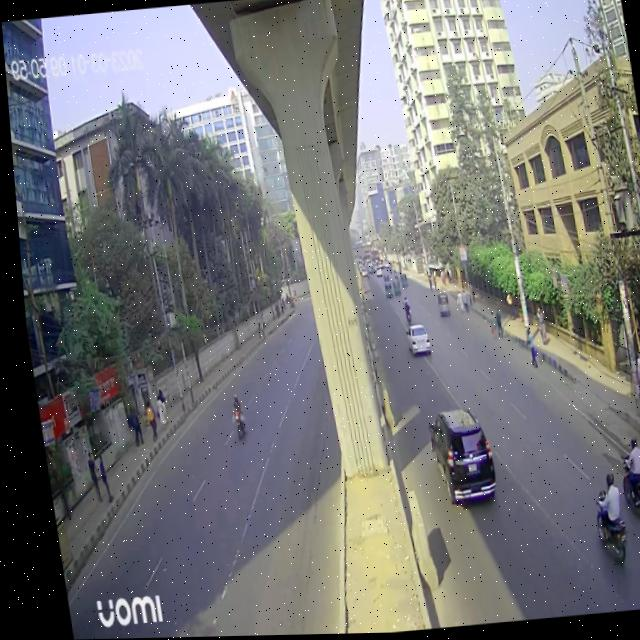cng: (426, 287, 451, 326)
